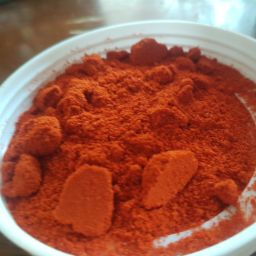Red chilli: (23, 37, 256, 231), (2, 85, 226, 240), (43, 103, 232, 189)
